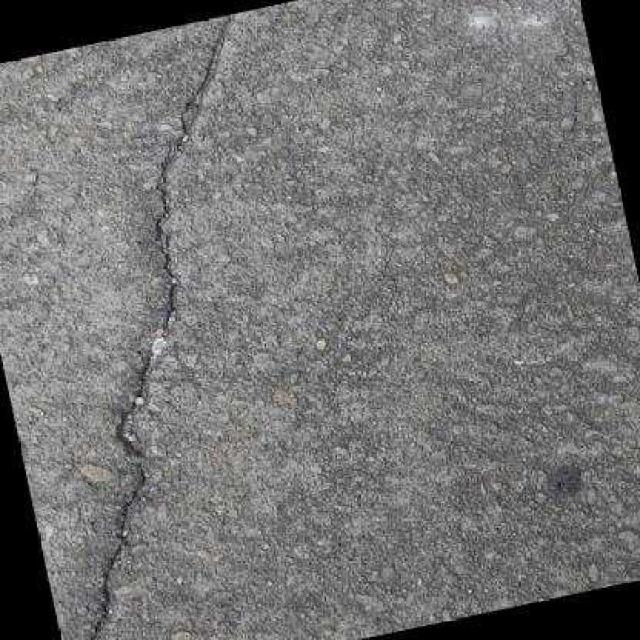D00: (89, 9, 242, 640)
